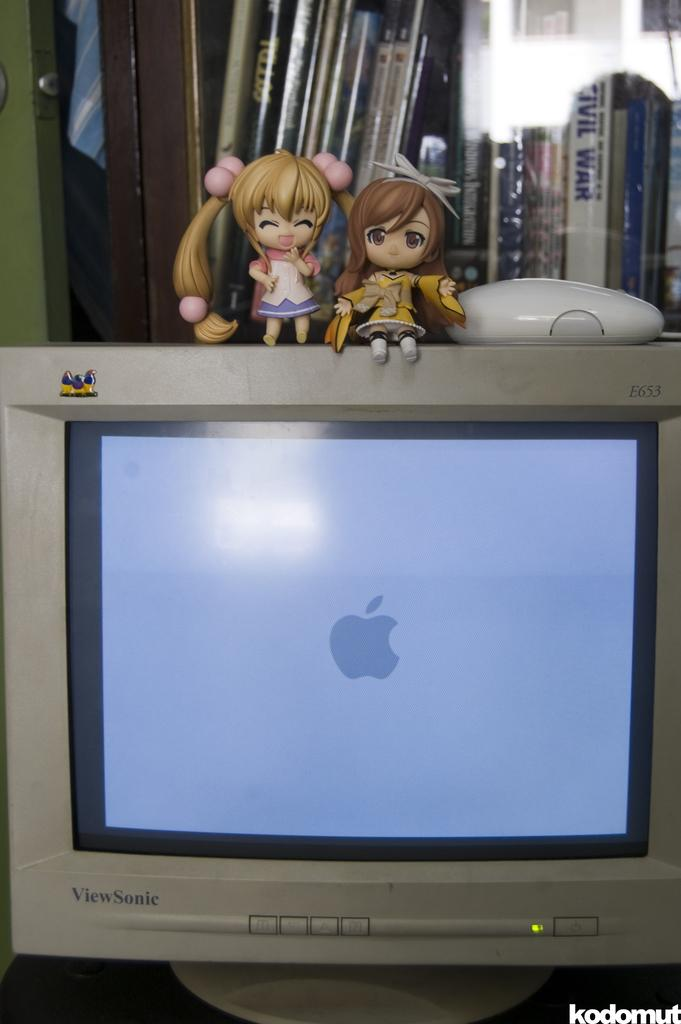Computer-monitor: (0, 340, 680, 1023)
